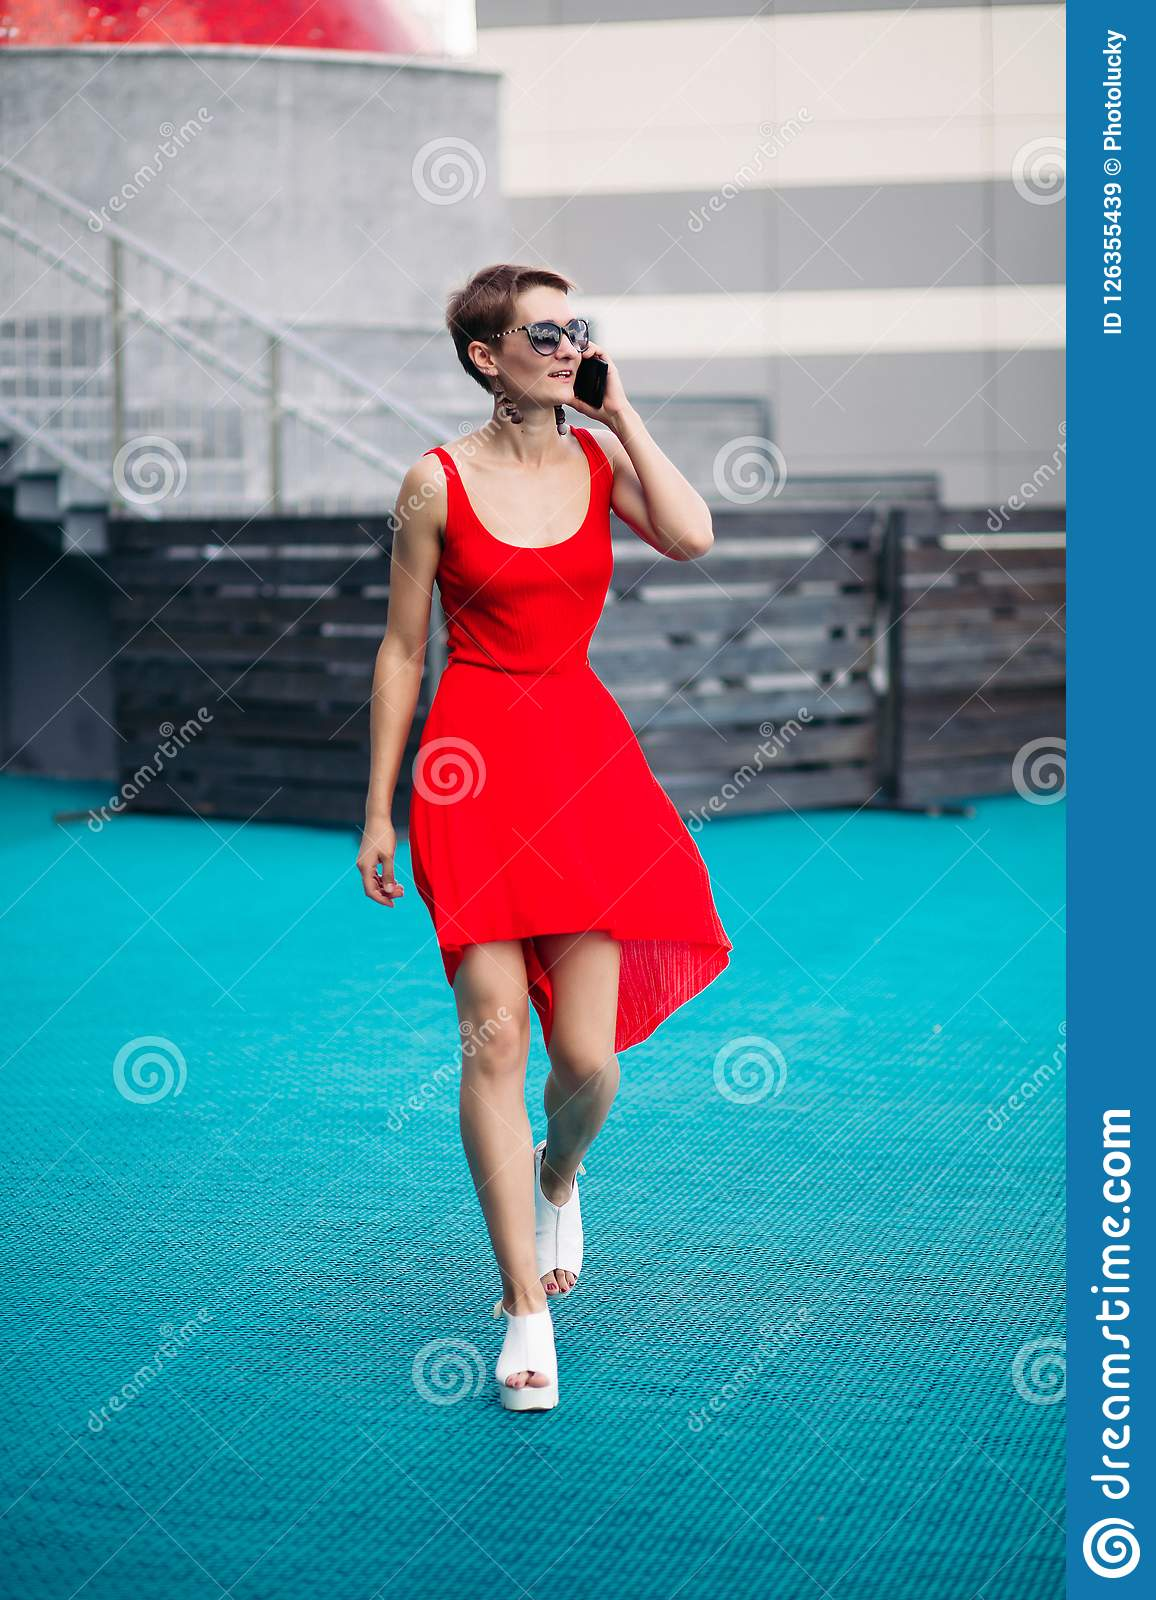phone: (574, 354, 610, 412)
talk: (518, 309, 625, 429)
